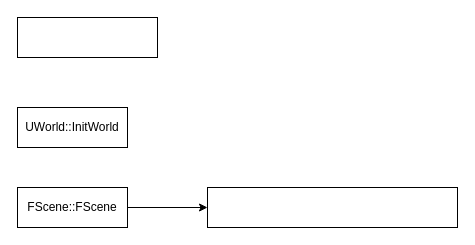
Image size: 475x245. Some labels were removed from this diagram. Here are the shapes that lost their labels. From the top down, the centre of each, then its label:
At (87,37): "UUnrealEdEngine::Tick".
At (332,207): "ComputeSystemInterface::CreateWorkers".
